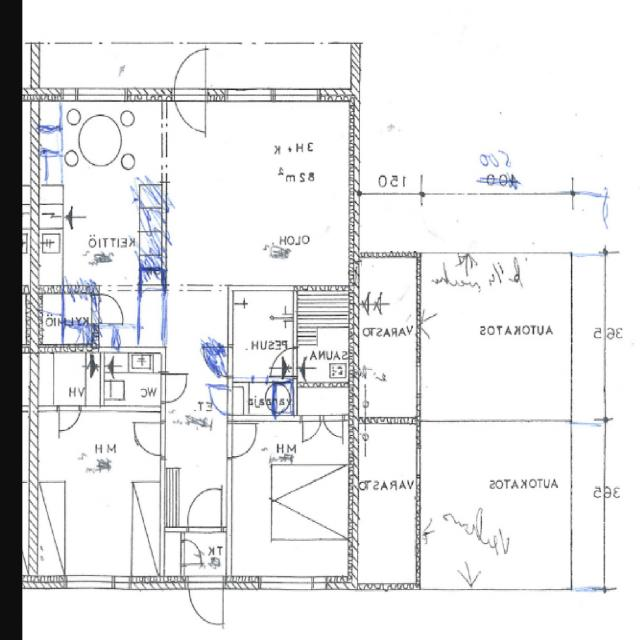door: (189, 577, 223, 631), (174, 50, 206, 102), (174, 90, 206, 140), (188, 486, 222, 532), (227, 423, 260, 457), (134, 423, 165, 456), (203, 383, 232, 412), (270, 346, 298, 376), (160, 374, 188, 402), (60, 405, 81, 437), (303, 415, 323, 445), (323, 415, 343, 445), (180, 541, 204, 564)
